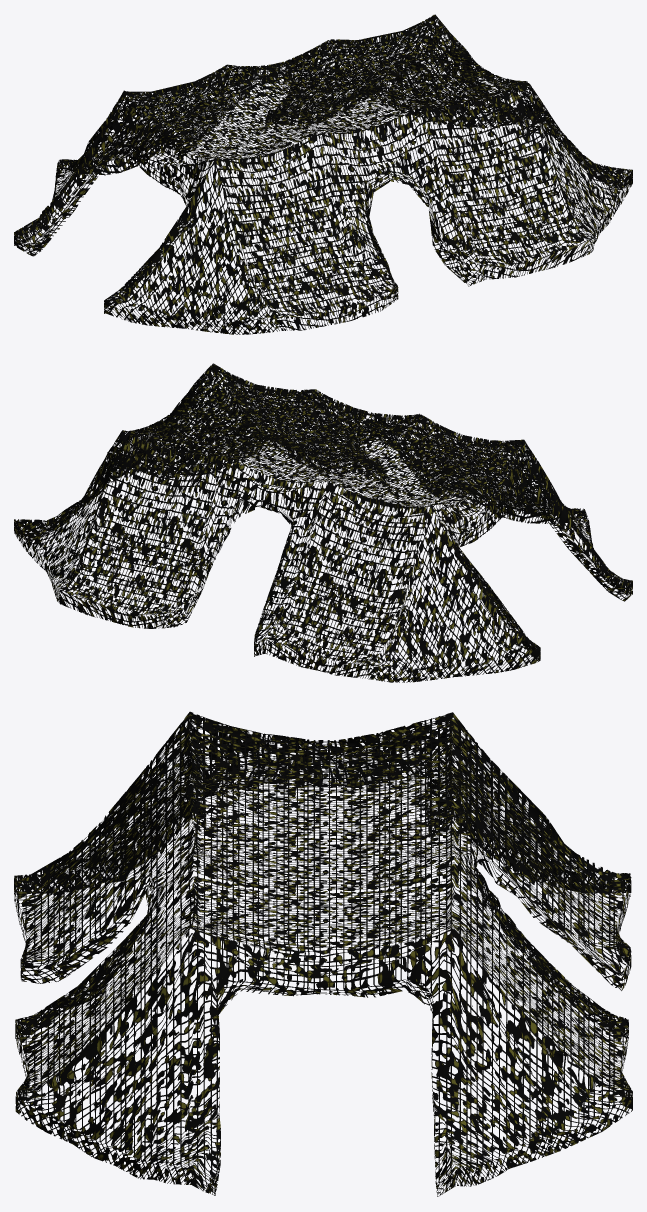
The model's file is CamouflageNetTwoSided.FBX.
3 views of the same model, one above another, from view 1: azimuth 30°, elevation 25°; view 2: azimuth 150°, elevation 25°; view 3: azimuth 270°, elevation 25° (orthographic). The views are drawn at different scales.
Parts seen in each view (by area): view 1: CamouflageNetTwoSided; view 2: CamouflageNetTwoSided; view 3: CamouflageNetTwoSided.
Boxes of the visible parts, x1,y1,x2,y2 form: CamouflageNetTwoSided: (14,14,632,334); CamouflageNetTwoSided: (14,363,632,682); CamouflageNetTwoSided: (14,711,632,1196).
Size of the model in its own units: 2097 by 548 by 1489.
Materials: 1 (1 with a texture image).
